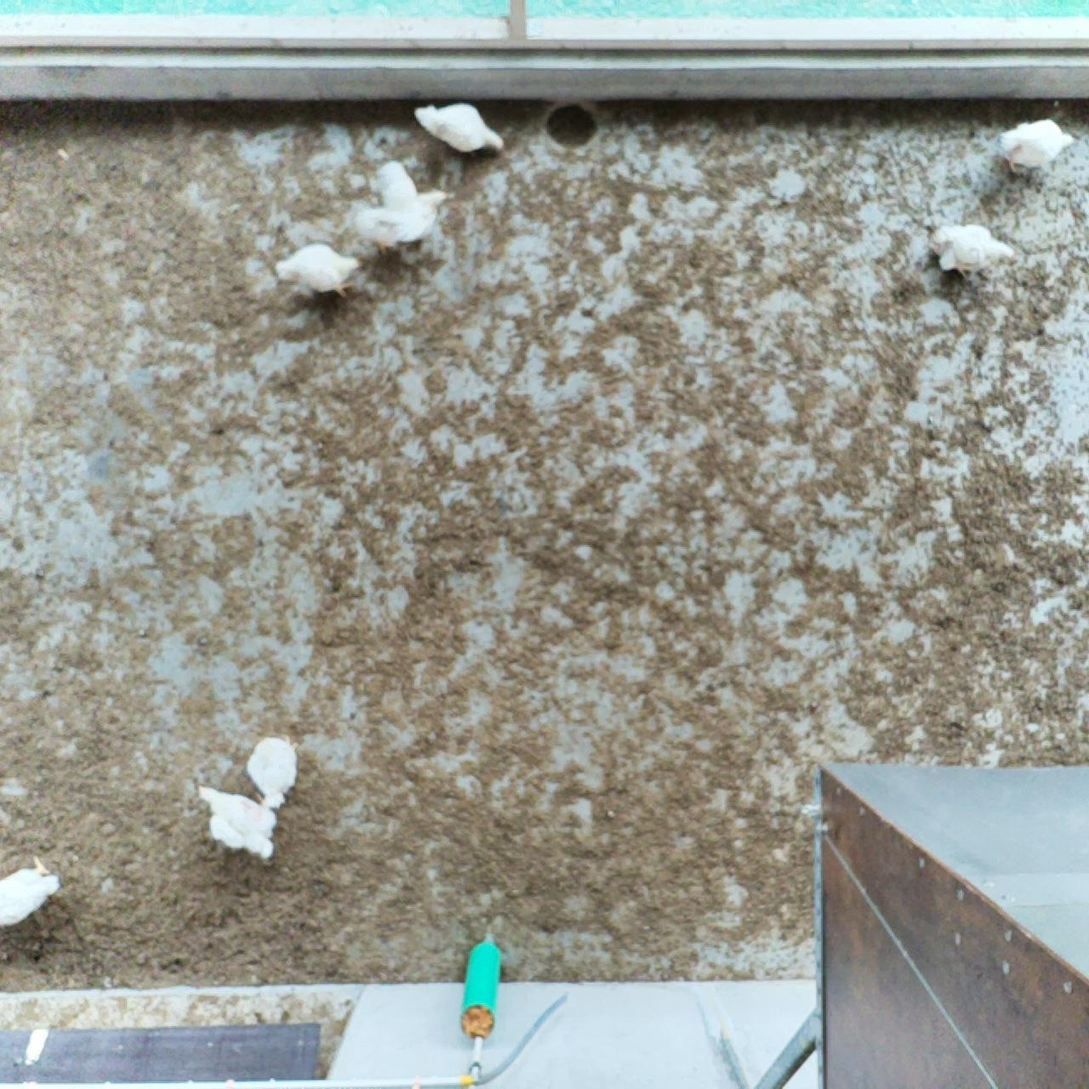chicken: (352, 177, 459, 259), (192, 779, 281, 864), (922, 216, 1022, 287), (410, 97, 508, 161), (272, 239, 364, 305), (993, 110, 1078, 176), (243, 728, 305, 811), (0, 852, 60, 932)
